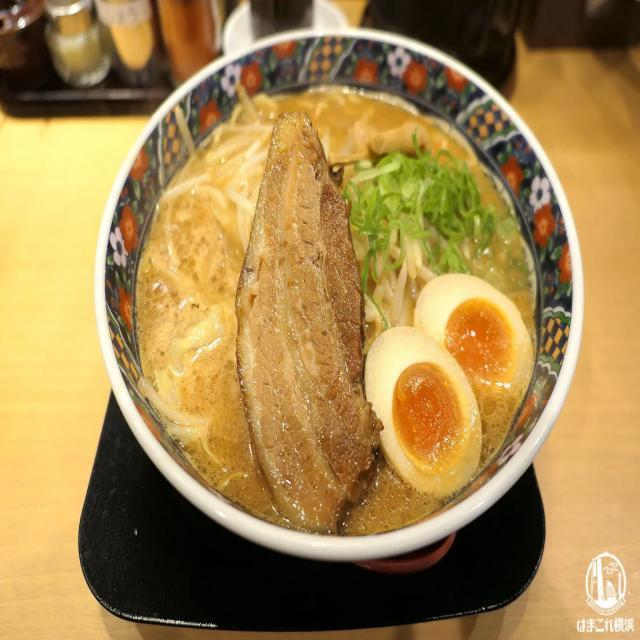cac loai rau cu: (338, 141, 516, 290)
mi misoramen: (138, 95, 577, 551)
soi mi miso: (152, 127, 298, 492)
thit heo: (237, 111, 387, 538)
trung: (357, 317, 496, 496), (418, 284, 532, 407)
